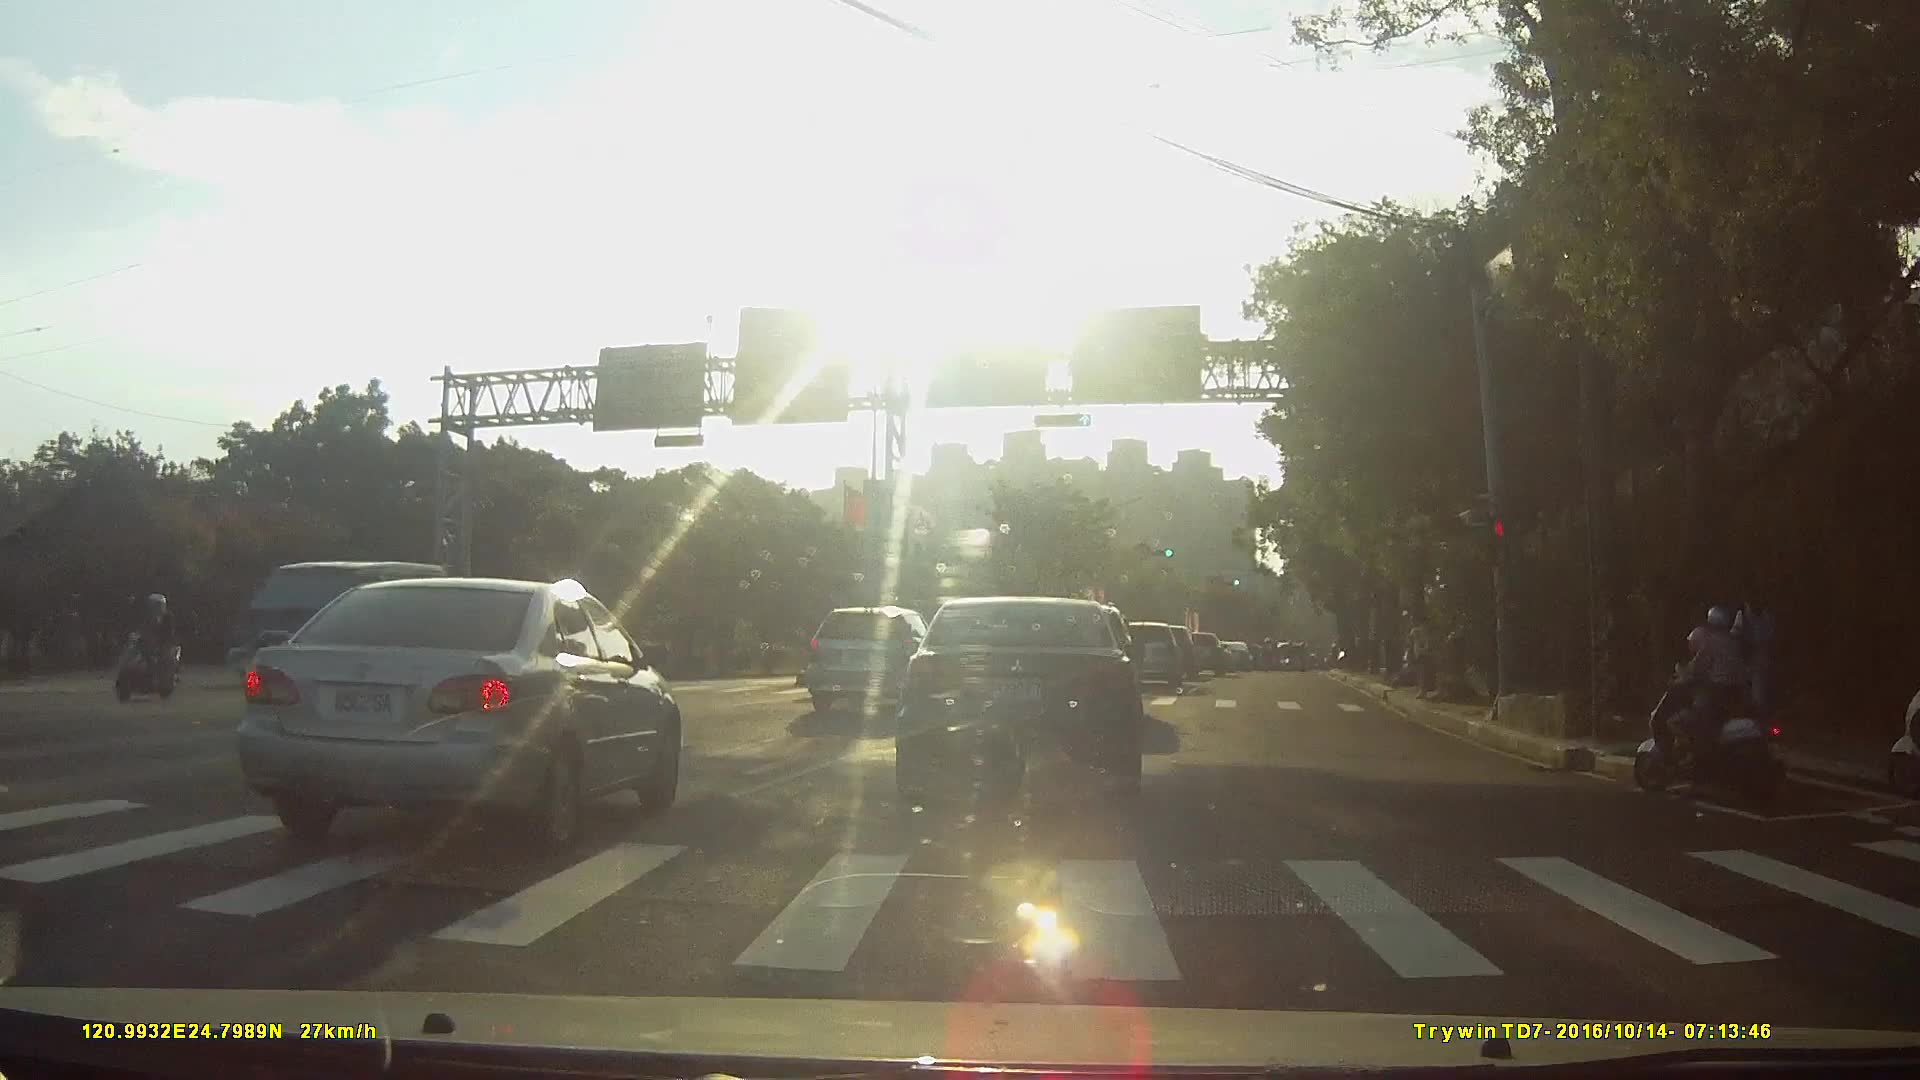pedestrian: (1726, 586, 1786, 746)
rider: (1631, 606, 1793, 811), (112, 591, 179, 702)
vehicle: (223, 576, 683, 855), (893, 597, 1146, 805), (212, 553, 465, 722), (802, 608, 946, 718), (1109, 622, 1183, 690), (1174, 631, 1224, 674), (1214, 643, 1251, 671)
